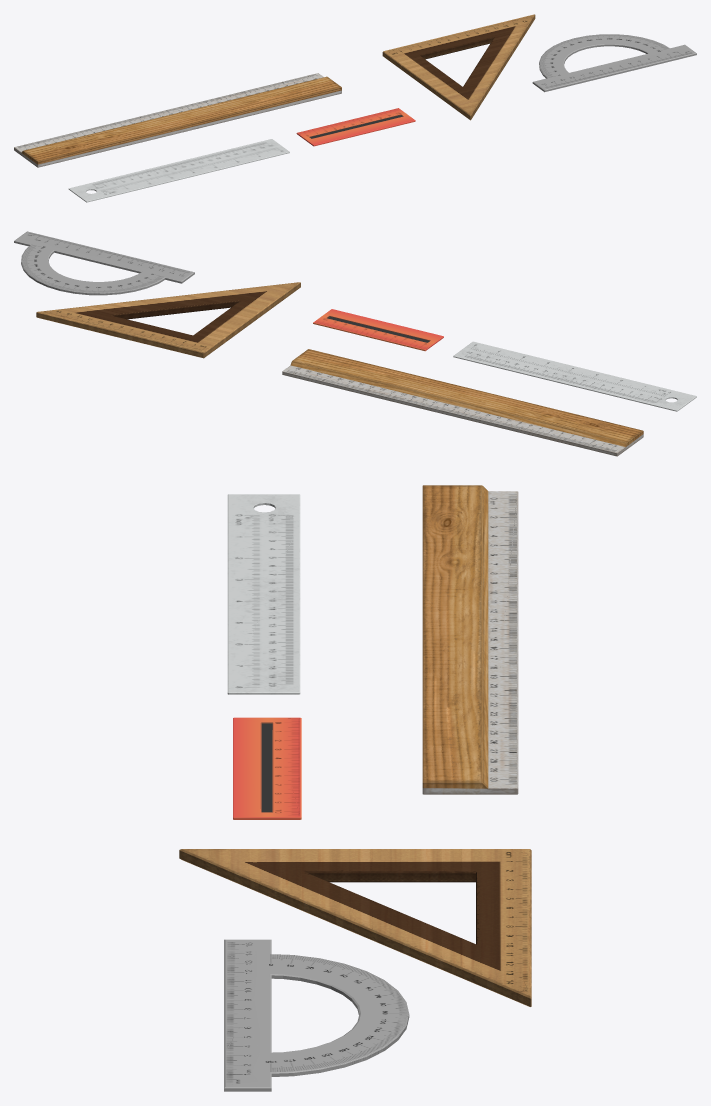
3 views of the same model, one above another, from view 1: azimuth 30°, elevation 25°; view 2: azimuth 150°, elevation 25°; view 3: azimuth 270°, elevation 25° (orthographic). The views are drawn at different scales.
Parts seen in each view (by area): view 1: Ruler1, Ruler4, Ruler5, Ruler2, Ruler3; view 2: Ruler1, Ruler4, Ruler5, Ruler2, Ruler3; view 3: Ruler1, Ruler4, Ruler5, Ruler2, Ruler3.
Boxes of the visible parts, x1=… form: Ruler1: x1=14, y1=73, x2=341, y2=167; Ruler4: x1=382, y1=14, x2=535, y2=120; Ruler5: x1=532, y1=34, x2=696, y2=92; Ruler2: x1=68, y1=139, x2=289, y2=202; Ruler3: x1=296, y1=108, x2=415, y2=146; Ruler1: x1=282, y1=349, x2=643, y2=456; Ruler4: x1=36, y1=282, x2=300, y2=358; Ruler5: x1=14, y1=231, x2=194, y2=295; Ruler2: x1=453, y1=341, x2=696, y2=411; Ruler3: x1=313, y1=309, x2=443, y2=351; Ruler1: x1=422, y1=485, x2=518, y2=794; Ruler4: x1=179, y1=849, x2=531, y2=1006; Ruler5: x1=224, y1=939, x2=409, y2=1091; Ruler2: x1=227, y1=494, x2=300, y2=694; Ruler3: x1=233, y1=717, x2=301, y2=819.
Size of the model in its own units: 65.97 by 0.6588 by 16.52.
Materials: 1 (1 with a texture image).
